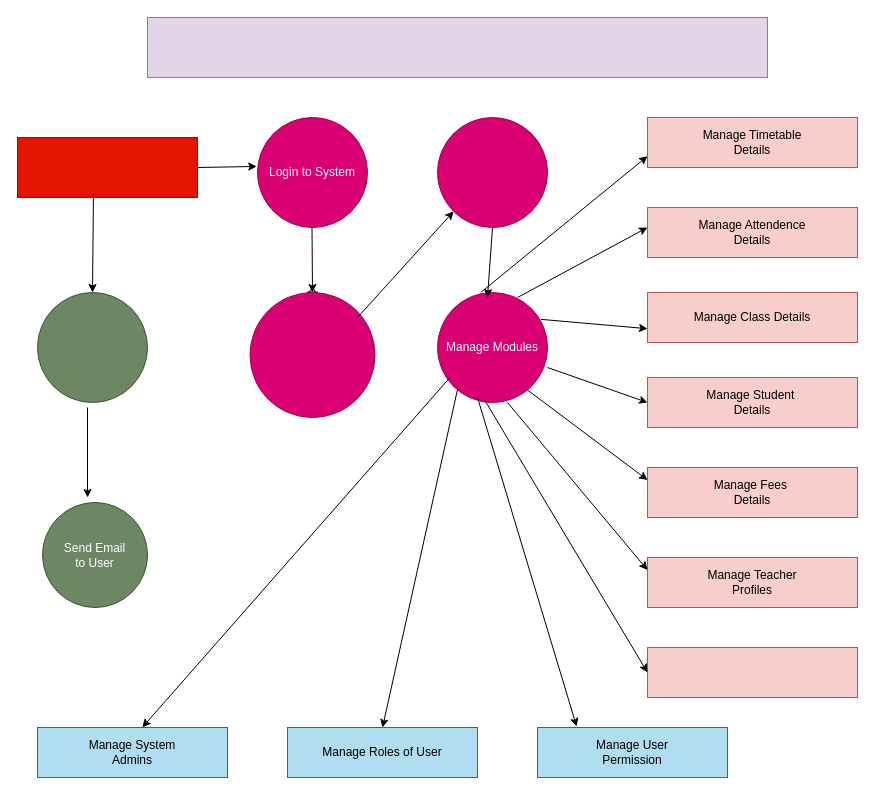
The diagram is 875 pixels wide and 795 high, and some of its shapes have lost their labels. Each missing label, with the centre of its shape:
Admin: the point at 107,167
Check Credentials: the point at 312,355
check Rotes of Access: the point at 492,172
Forget Password: the point at 92,347
Manage Report: the point at 752,672
Student Information System: the point at 457,47
